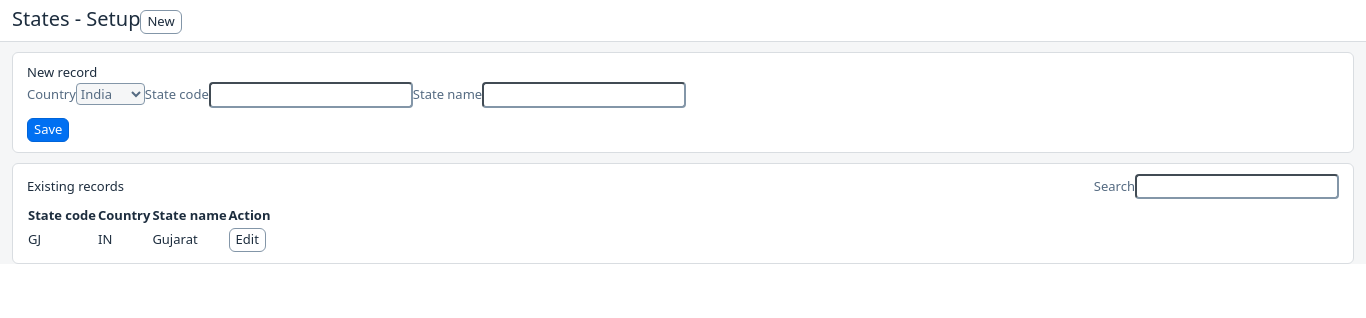
state edit preserves composite country/code identity and reports server errors
Click the button "Edit": (247, 240) [229,228,266,252]
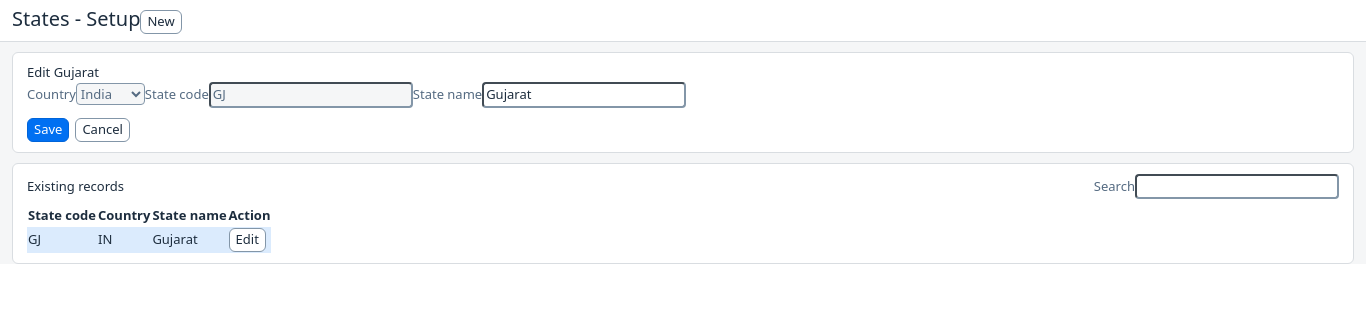
Expected: the dropdown labelled "Country" is disabled, [76,83,145,105]
Now the field labelled "State code" has attribute readonly, box [209,82,413,108]
Replace the text in the field labelled "State name" with "Gujarat State": (584, 95) [482,82,686,108]
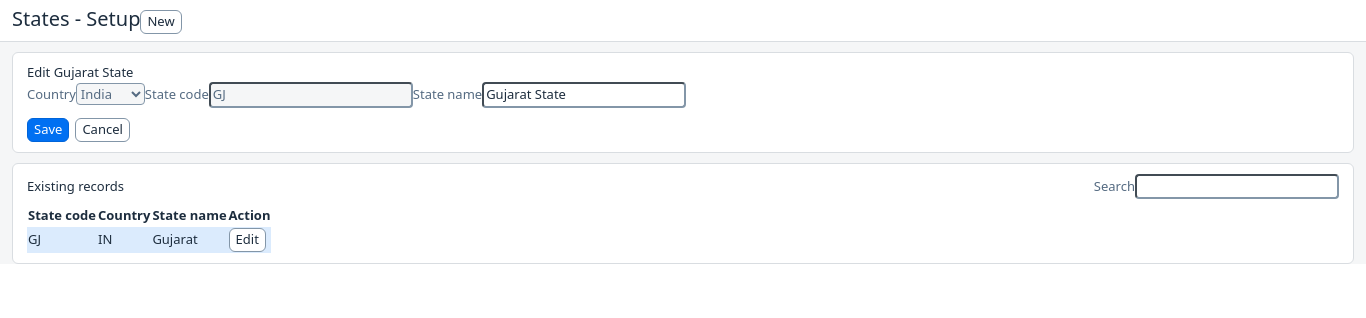
Click the button "Save": (48, 130) [27,118,69,142]
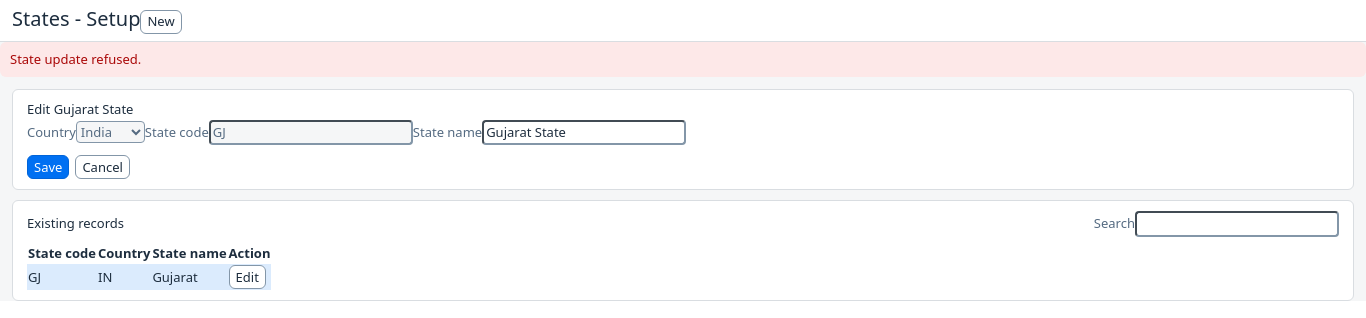
Now the message reads "State update refused.", box [10,50,141,68]
